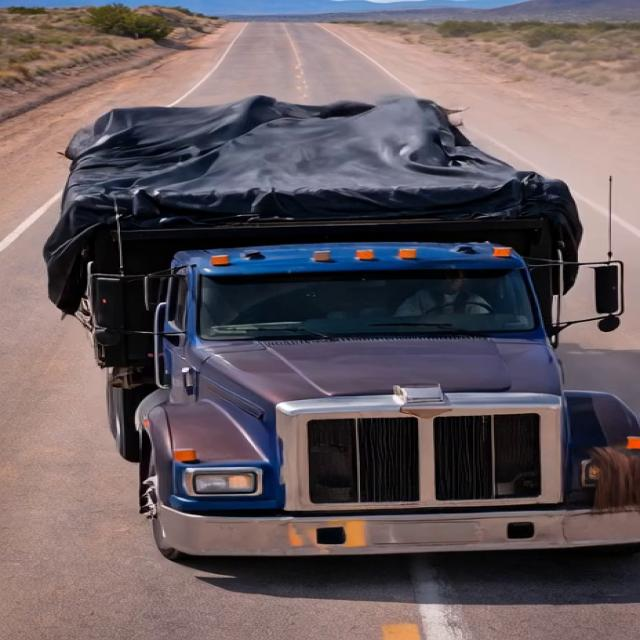Box: (71, 97, 562, 205)
Truck: (53, 53, 604, 616)
